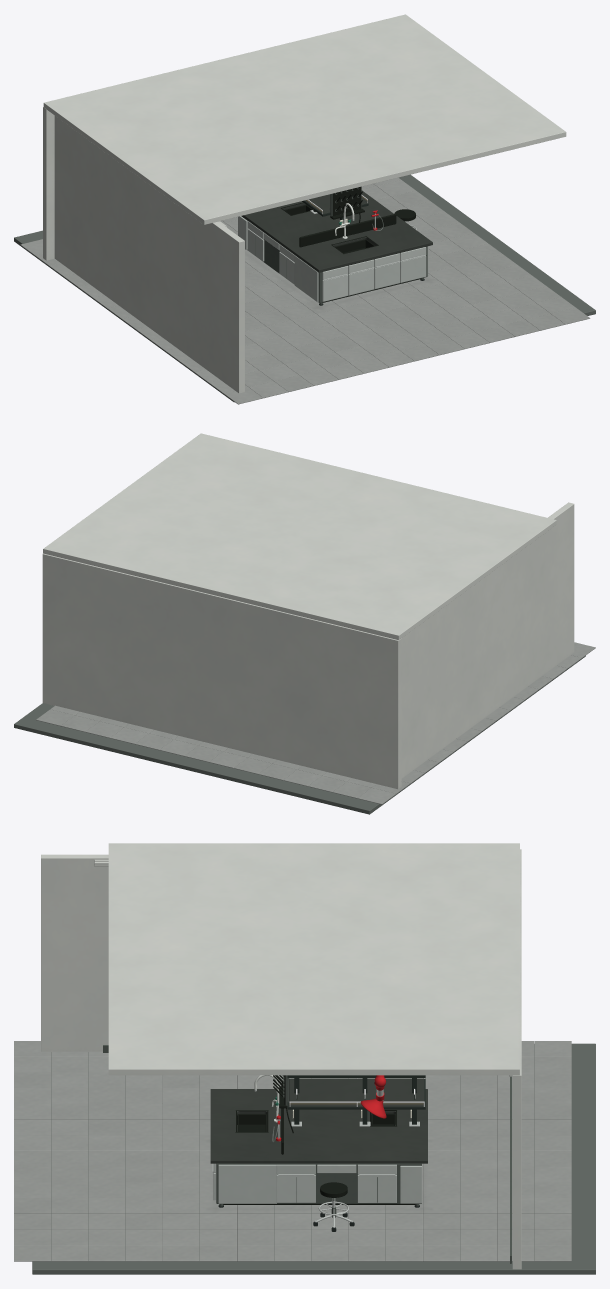
The model's file is usedv6-baked-scene.glb.
3 views of the same model, one above another, from view 1: azimuth 30°, elevation 25°; view 2: azimuth 150°, elevation 25°; view 3: azimuth 270°, elevation 25° (orthographic). The views are drawn at different scales.
Visible parts, largest first — view 1: Ceiling, Left plaster wall, Island solid epoxy countertop, Floor slab, Back plaster wall, Black splash divider behind front sink, Sink unit side cheek, Island continuous steel carcass, Front door 3, Front door 1, Front door 4, Front door 2 (+1 smaller); view 2: Ceiling, Back plaster wall, Left plaster wall, Floor slab; view 3: Ceiling, Floor slab, Left plaster wall, Island solid epoxy countertop, Reagent shelf epoxy surface, Back plaster wall, Sink unit side cheek.001, Island continuous steel carcass, Side double cupboard.003, Side double cupboard.002, Rear island end panel.001, Glazed square floor tile.197 (+106 smaller).
Part boxes in pixels (<box>): Ceiling: <box>43,14,566,224</box>; Left plaster wall: <box>54,116,244,393</box>; Island solid epoxy countertop: <box>242,190,432,272</box>; Floor slab: <box>14,174,595,402</box>; Back plaster wall: <box>43,107,54,260</box>; Black splash divider behind front sink: <box>299,214,396,247</box>; Sink unit side cheek: <box>294,255,318,301</box>; Island continuous steel carcass: <box>241,216,427,302</box>; Front door 3: <box>374,262,400,288</box>; Front door 1: <box>322,275,348,301</box>; Front door 4: <box>400,256,426,282</box>; Front door 2: <box>348,268,374,295</box>; Ceiling: <box>43,433,556,640</box>; Back plaster wall: <box>42,553,401,789</box>; Left plaster wall: <box>401,502,574,778</box>; Floor slab: <box>14,655,585,814</box>; Ceiling: <box>108,843,519,1075</box>; Floor slab: <box>32,1043,595,1274</box>; Left plaster wall: <box>41,854,108,1051</box>; Island solid epoxy countertop: <box>210,1089,427,1163</box>; Reagent shelf epoxy surface: <box>289,1078,424,1106</box>; Back plaster wall: <box>512,849,521,1269</box>; Sink unit side cheek.001: <box>218,1164,276,1203</box>; Island continuous steel carcass: <box>216,1125,421,1203</box>; Side double cupboard.003: <box>357,1174,396,1202</box>; Side double cupboard.002: <box>276,1174,315,1202</box>; Rear island end panel.001: <box>400,1165,421,1203</box>; Glazed square floor tile.197: <box>88,1245,125,1261</box>.
Bounding box in the file's own units: 9.58 × 4.02 × 10.33.
14 materials, 12 textured.
